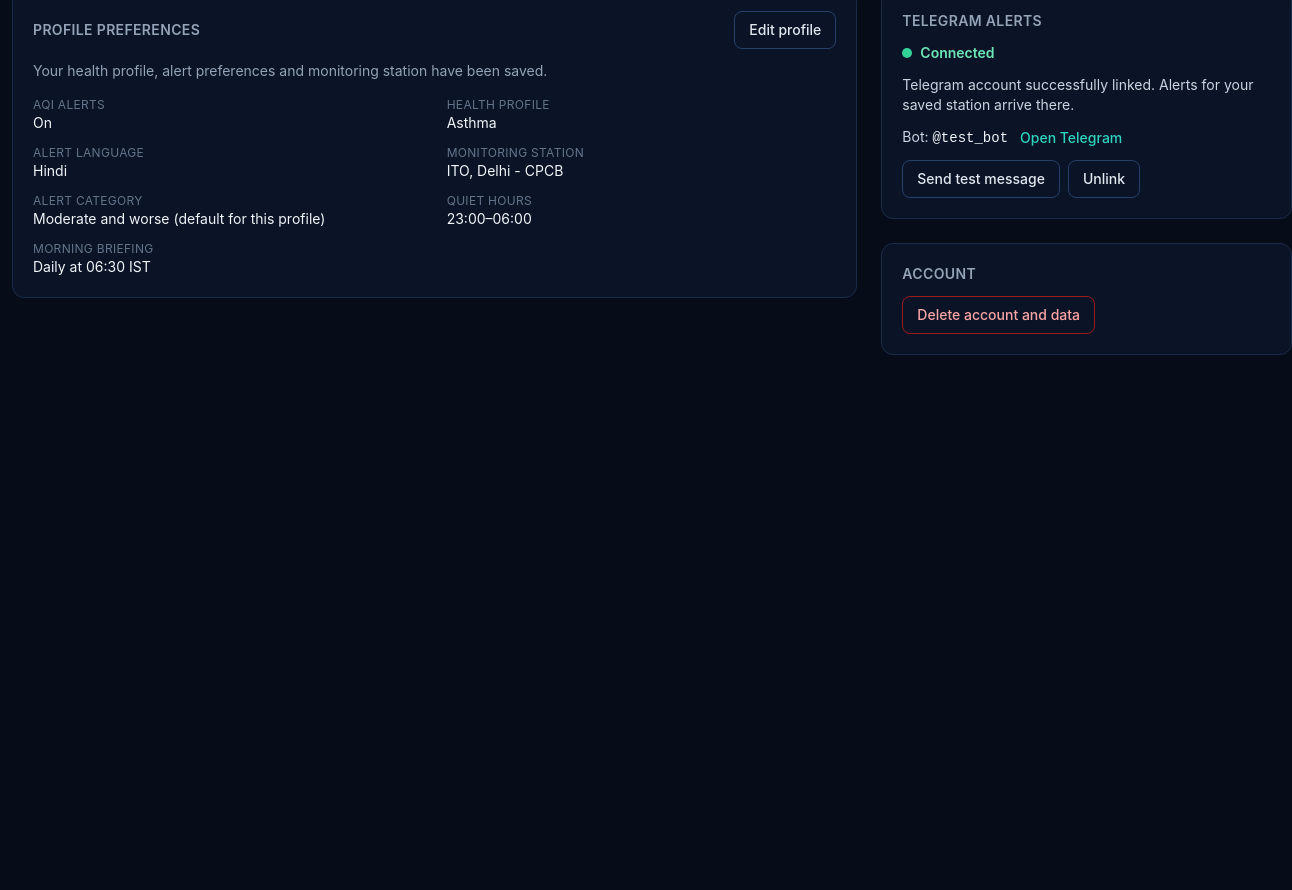
Profile page: collapsible saved settings › morning briefing settings are shown in the summary, saved, and can be switched off
expect the text "Daily at 06:30 IST" is shown: met, box [33,258,151,275]
Click the button "Edit profile". click: x=785, y=30
box: [734,11,836,49]
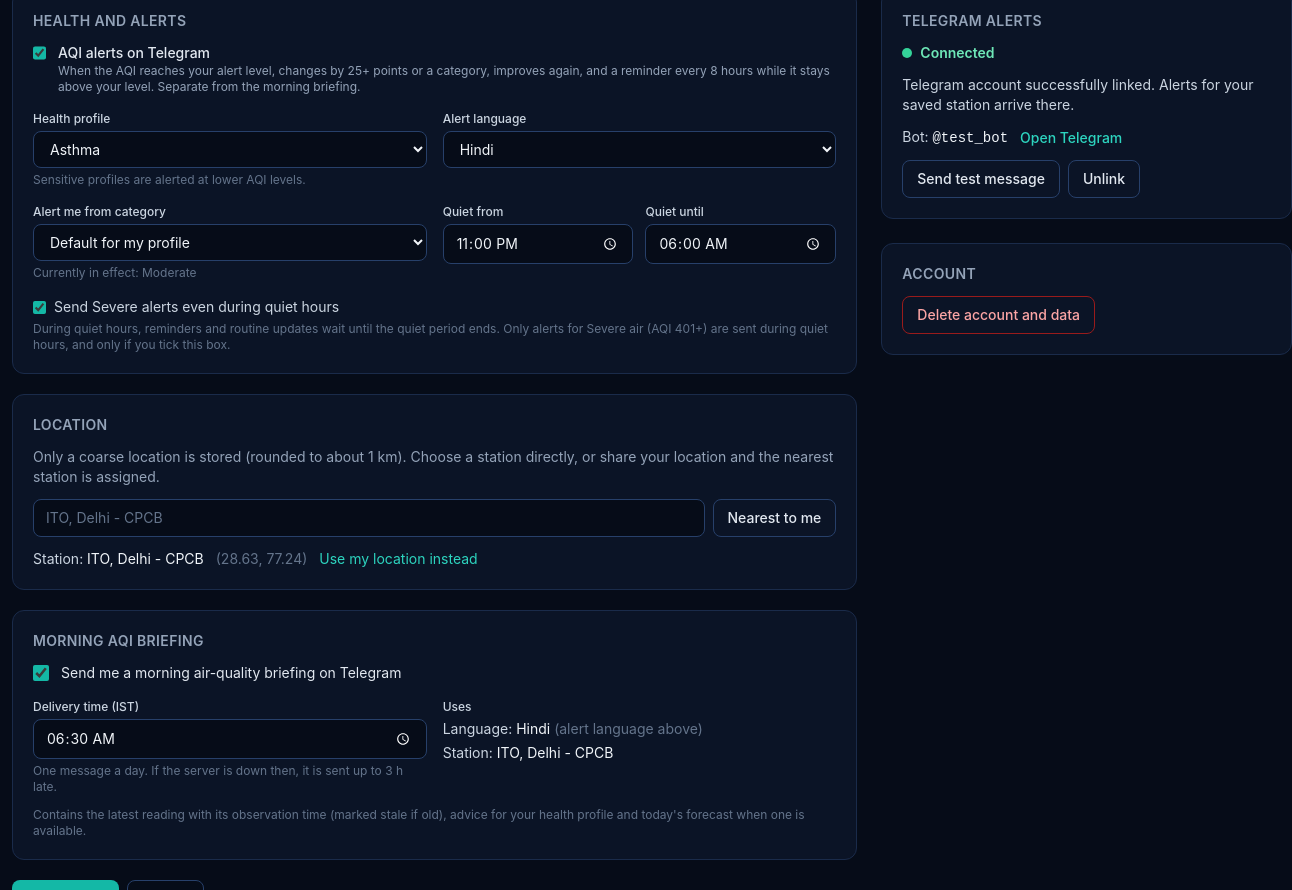
Replace the text in the time field labelled "Delivery time" with "07:45". click: x=230, y=739
box: [33,719,427,759]
(page scrolled)
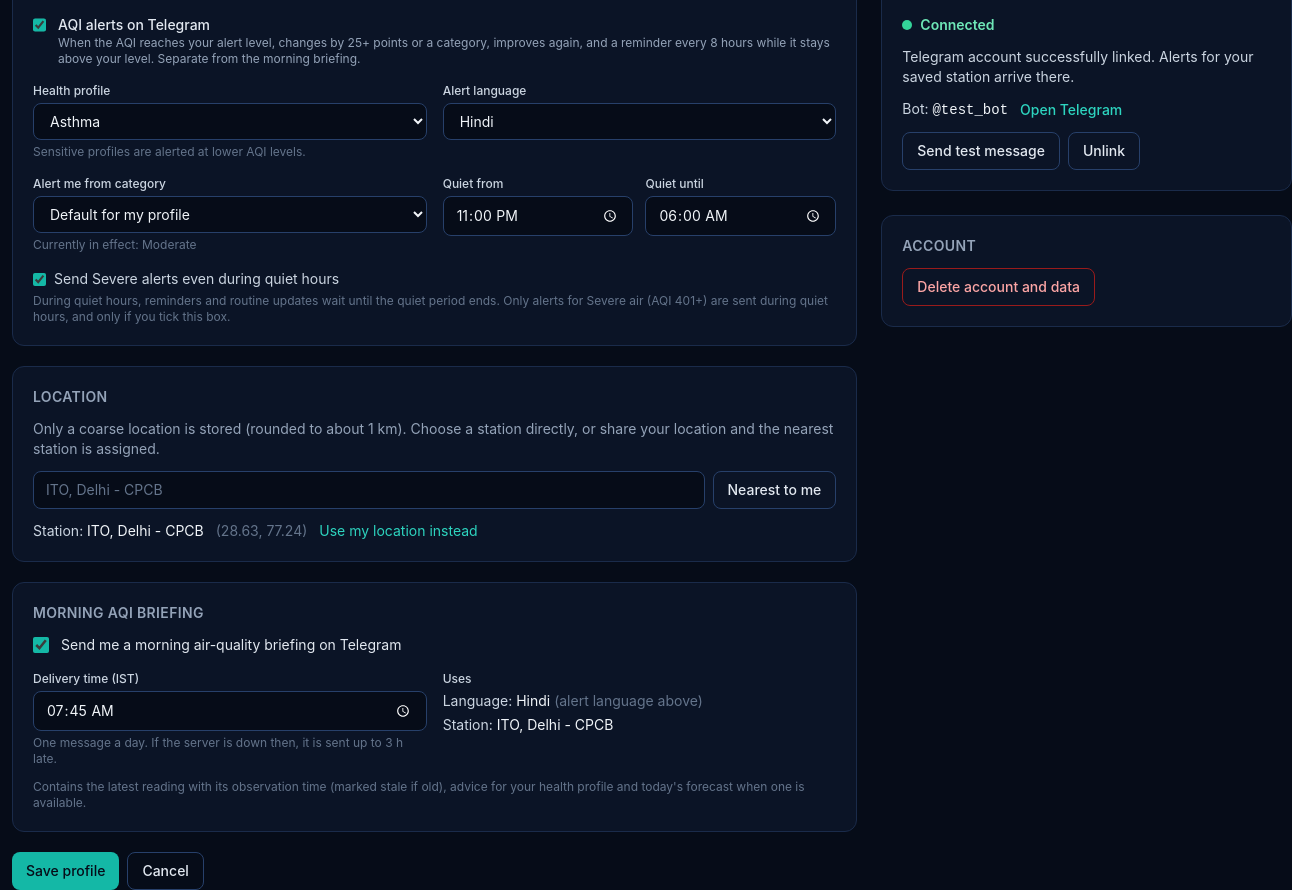
Click the button "Save profile". click: x=66, y=871
box: [12,852,119,889]
(page scrolled)
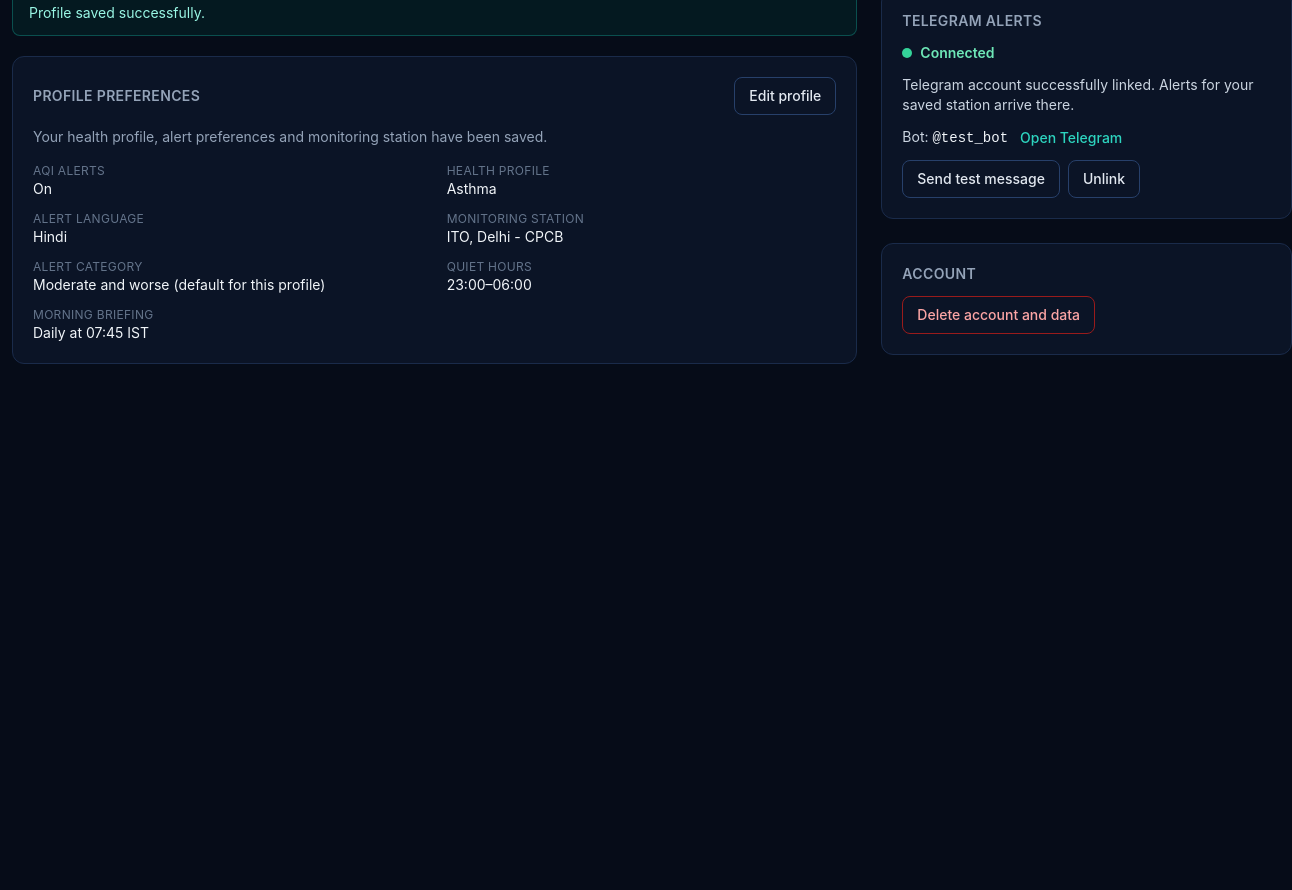
expect the text "Profile saved successfully." is shown: met, box [29,4,205,21]
Click the button "Edit profile". click: x=785, y=96
box: [734,77,836,115]
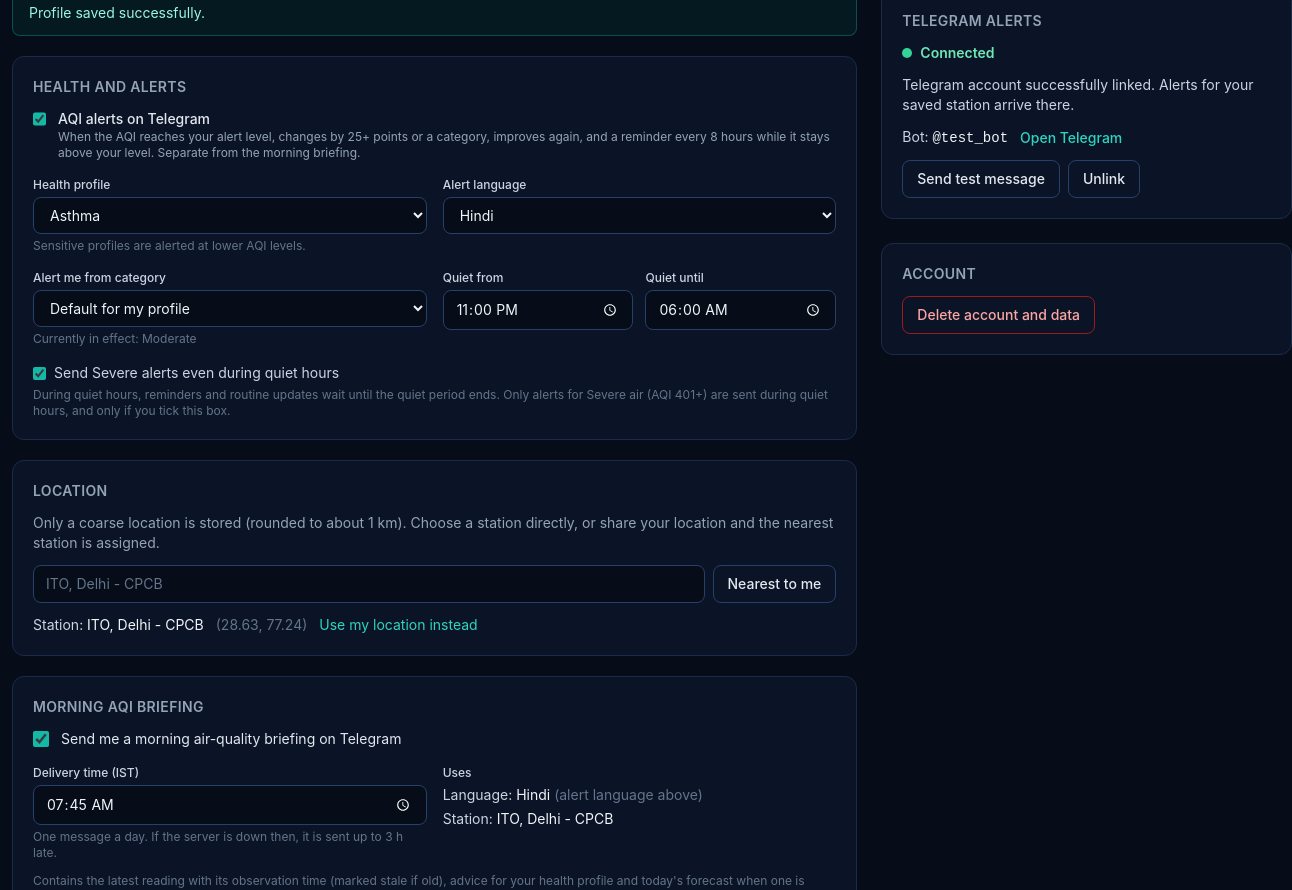
Click the switch named "Morning briefing". click: x=41, y=739
box: [33,731,49,747]
(page scrolled)
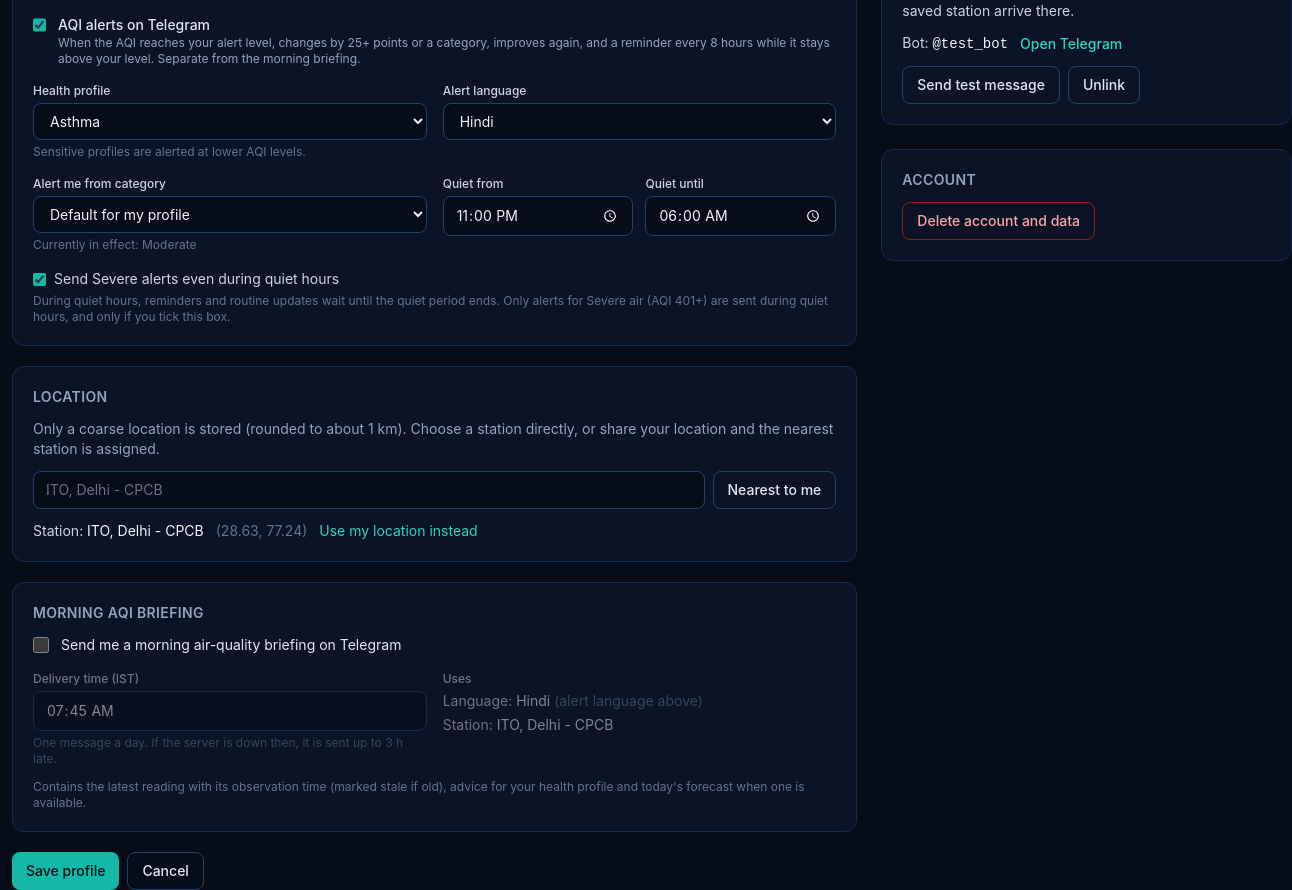
expect the time field labelled "Delivery time" is disabled: met, box [33,691,427,731]
Click the button "Save profile". click: x=66, y=871
box: [12,852,119,889]
(page scrolled)
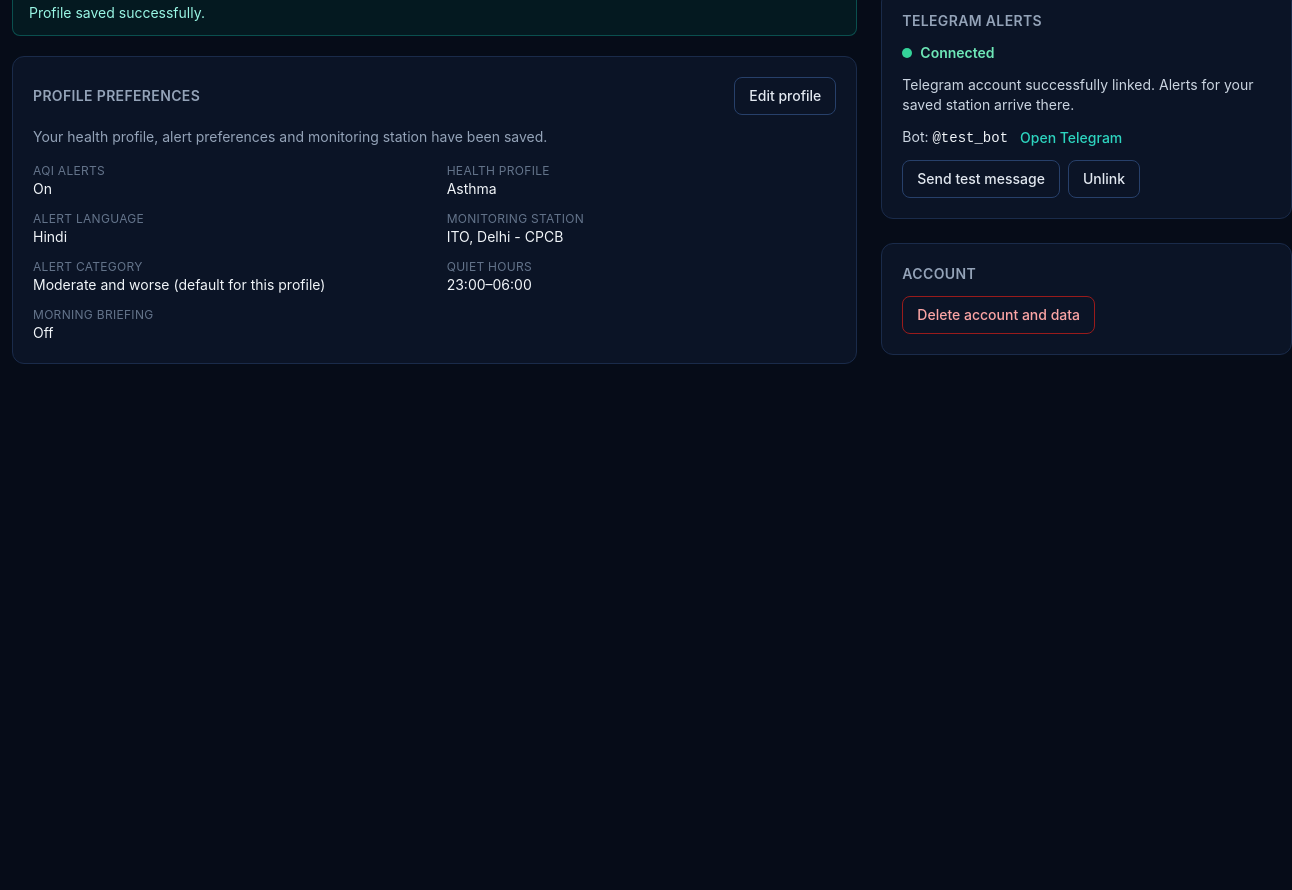
expect the text "Off" is shown: met, box [33,324,54,341]
